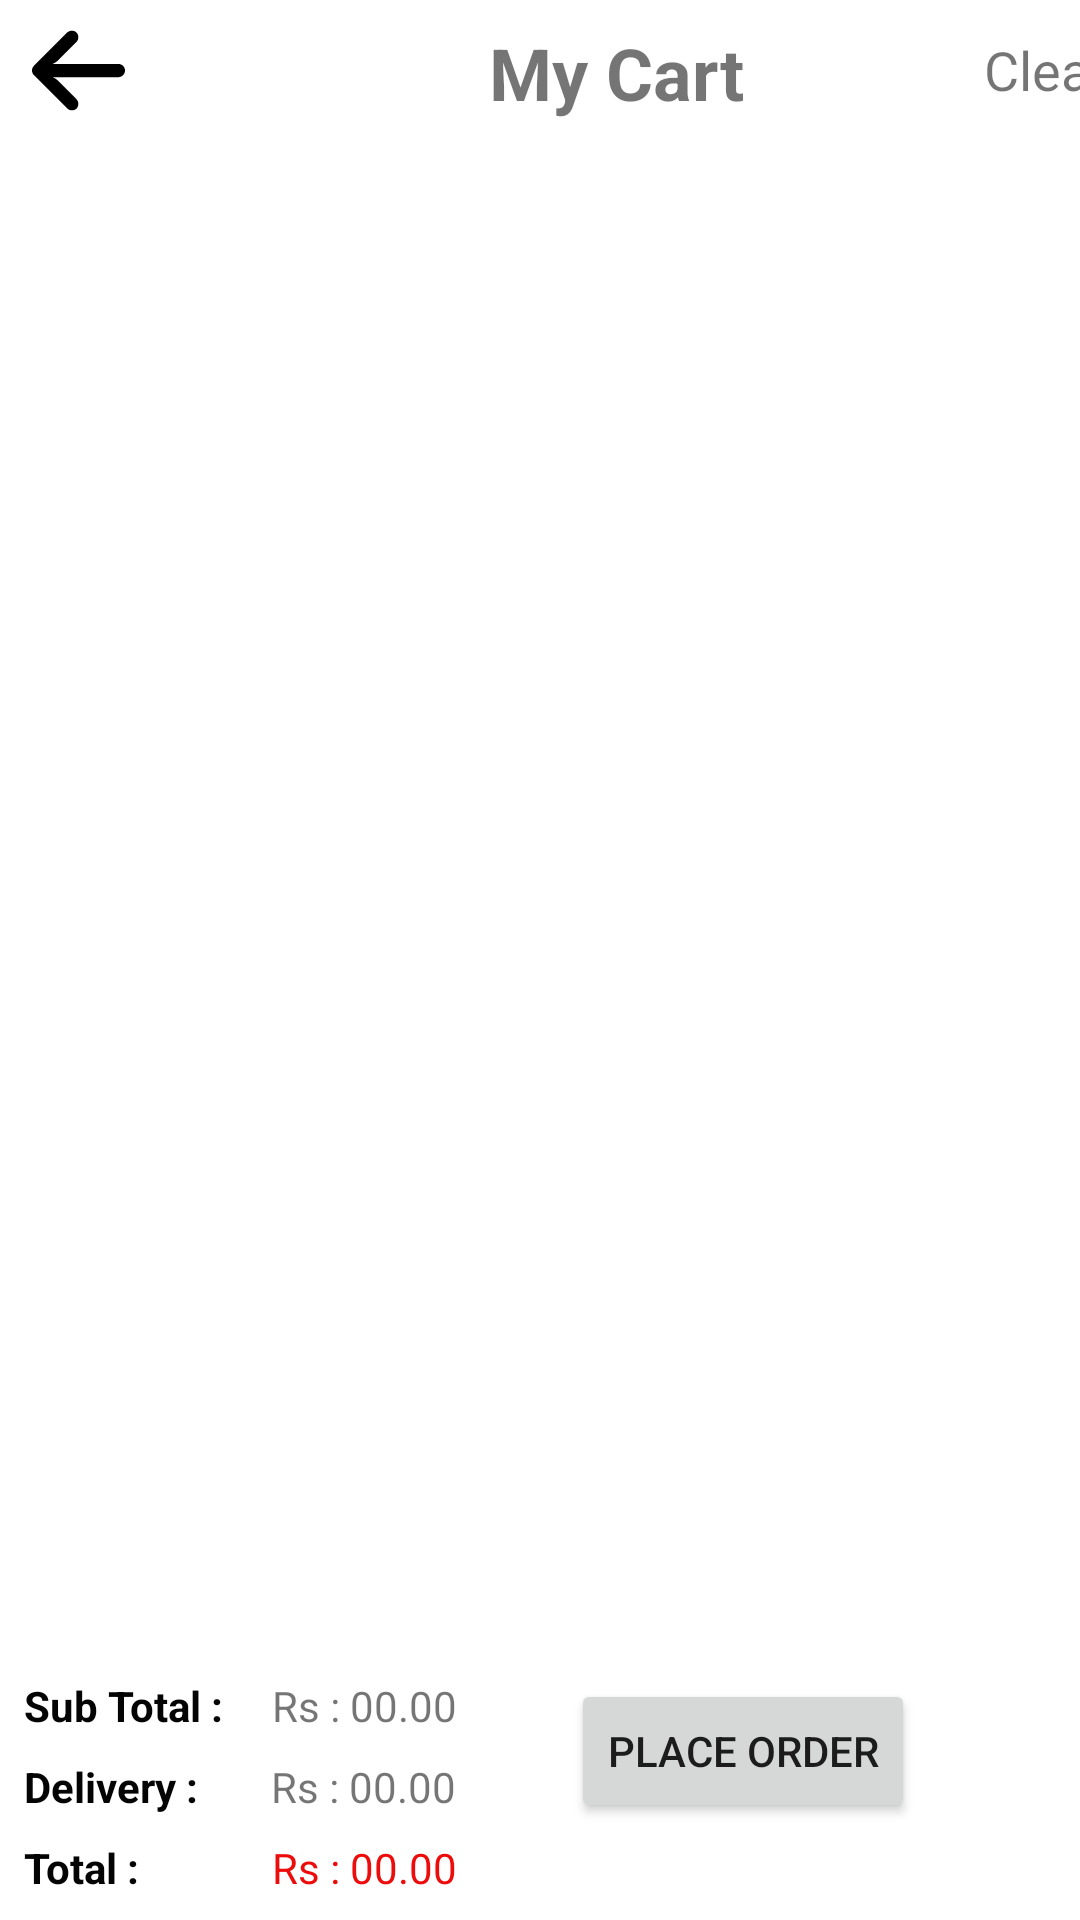

Screen size 1080px×1920px. Icon name, then its box in pixels as (x1, y1, x2, y2):
arrow: (32, 30, 125, 111)
